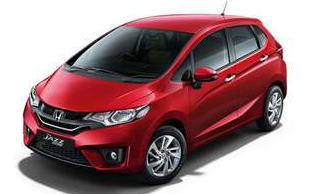car: (21, 13, 288, 187)
